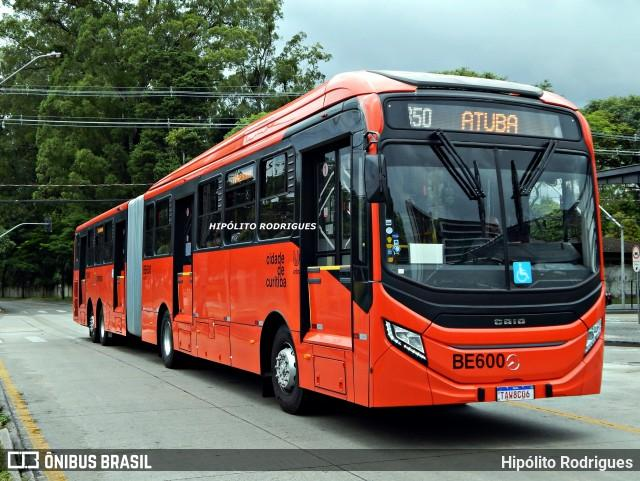ATUBA: (455, 105, 524, 136)
